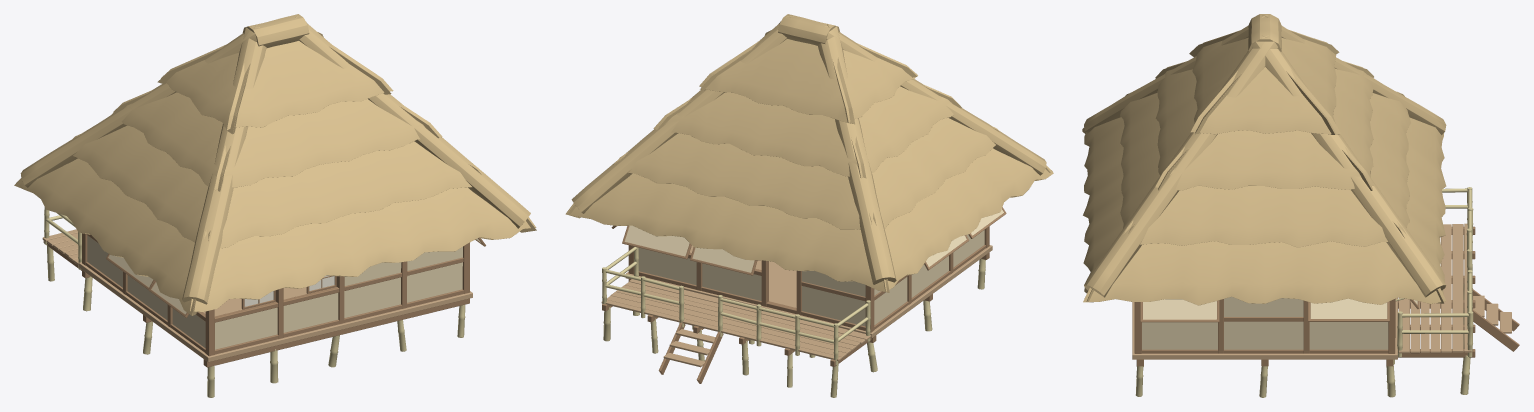
Rendered from house_land_24757.glb.
The picture shows the model from 3 angles, left to right: view 1: azimuth 30°, elevation 25°; view 2: azimuth 150°, elevation 25°; view 3: azimuth 270°, elevation 25°; orthographic projection. The views are drawn at different scales.
Visible parts, largest first — view 1: land_24757_thatch, land_24757_sawali, land_24757_timber, land_24757_plank, land_24757_bamboo; view 2: land_24757_thatch, land_24757_plank, land_24757_sawali, land_24757_timber, land_24757_bamboo; view 3: land_24757_thatch, land_24757_sawali, land_24757_plank, land_24757_timber, land_24757_bamboo.
Part boxes in pixels (x1,y1,x2,y2): land_24757_thatch: [14, 14, 536, 315]; land_24757_sawali: [87, 235, 480, 349]; land_24757_timber: [43, 233, 485, 367]; land_24757_plank: [42, 229, 472, 362]; land_24757_bamboo: [44, 207, 465, 397]; land_24757_thatch: [565, 14, 1053, 292]; land_24757_plank: [601, 245, 992, 367]; land_24757_sawali: [625, 209, 1003, 326]; land_24757_timber: [602, 207, 1006, 383]; land_24757_bamboo: [602, 246, 985, 397]; land_24757_thatch: [1082, 14, 1446, 305]; land_24757_sawali: [1142, 296, 1417, 349]; land_24757_plank: [1132, 223, 1511, 359]; land_24757_timber: [1134, 226, 1519, 366]; land_24757_bamboo: [1135, 187, 1473, 397].
Bounding box in the file's own units: 10.34 × 8.52 × 10.96.
